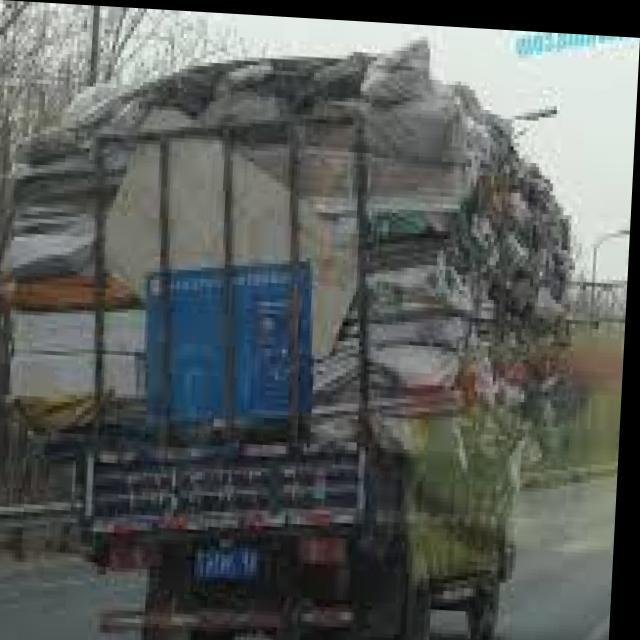uncovered: (0, 12, 594, 640)
